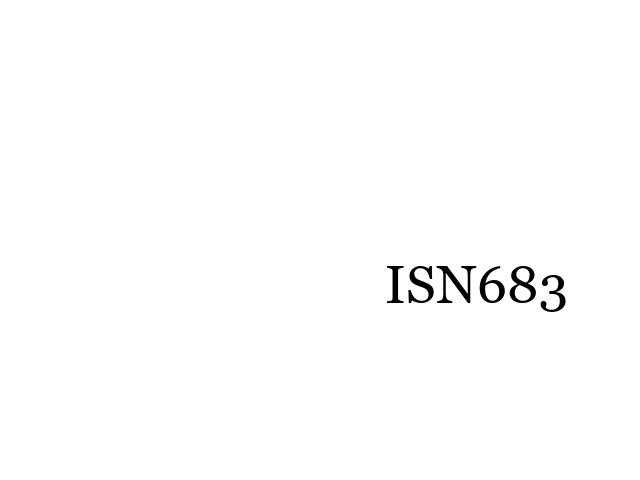OCR_AREA: (381, 262, 572, 316)
